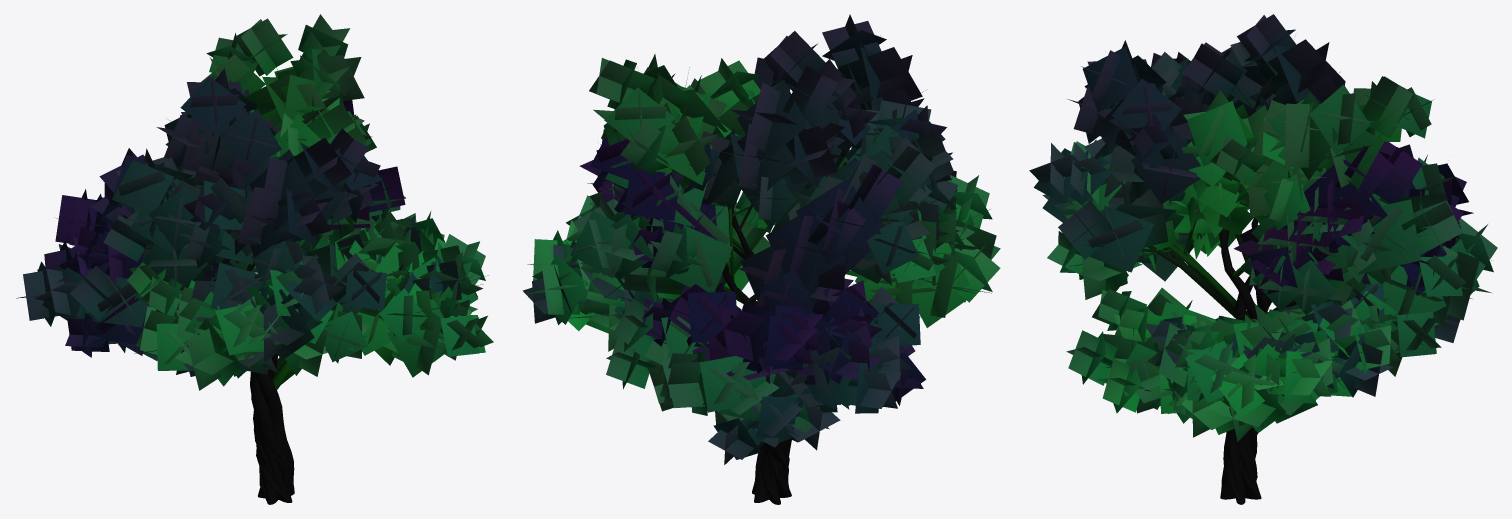
File: MO_Tree-1.fbx
3 renders of one model, left to right at view 1: azimuth 30°, elevation 25°; view 2: azimuth 150°, elevation 25°; view 3: azimuth 270°, elevation 25°, orthographic. The views are drawn at different scales.
Parts seen in each view (by area): view 1: Tree_Leafs, Tree_Trunk; view 2: Tree_Leafs, Tree_Trunk; view 3: Tree_Leafs, Tree_Trunk.
Boxes of the visible parts, left/top/right/bottom form: Tree_Leafs: left=16, top=14, right=493, bottom=390; Tree_Trunk: left=46, top=56, right=488, bottom=504; Tree_Leafs: left=523, top=14, right=1000, bottom=464; Tree_Trunk: left=541, top=35, right=991, bottom=504; Tree_Leafs: left=1029, top=14, right=1497, bottom=441; Tree_Trunk: left=1068, top=72, right=1493, bottom=504.
Bounding box in the file's own units: 19.99 × 21.13 × 19.68.
